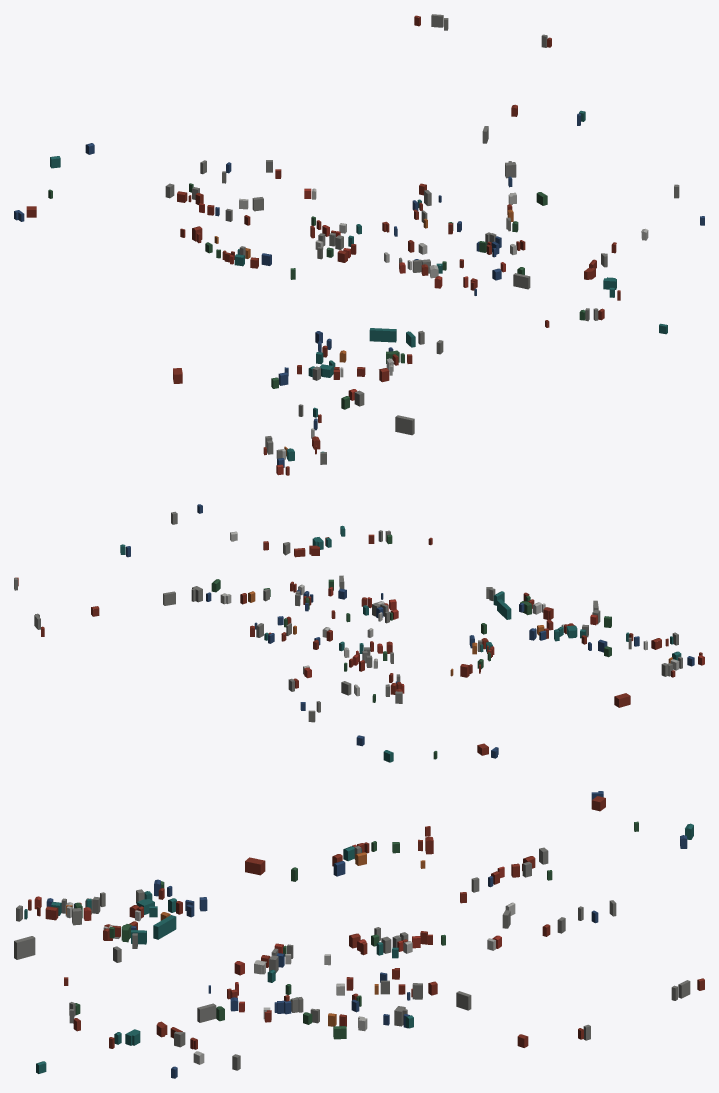
File: near-15-27356-14866.1a8927b2.glb
The picture shows the model from 3 angles, top to bottom: view 1: azimuth 30°, elevation 25°; view 2: azimuth 150°, elevation 25°; view 3: azimuth 270°, elevation 25°; orthographic projection. The views are drawn at different scales.
Size of the model in its own units: 1161 by 312 by 1134.
